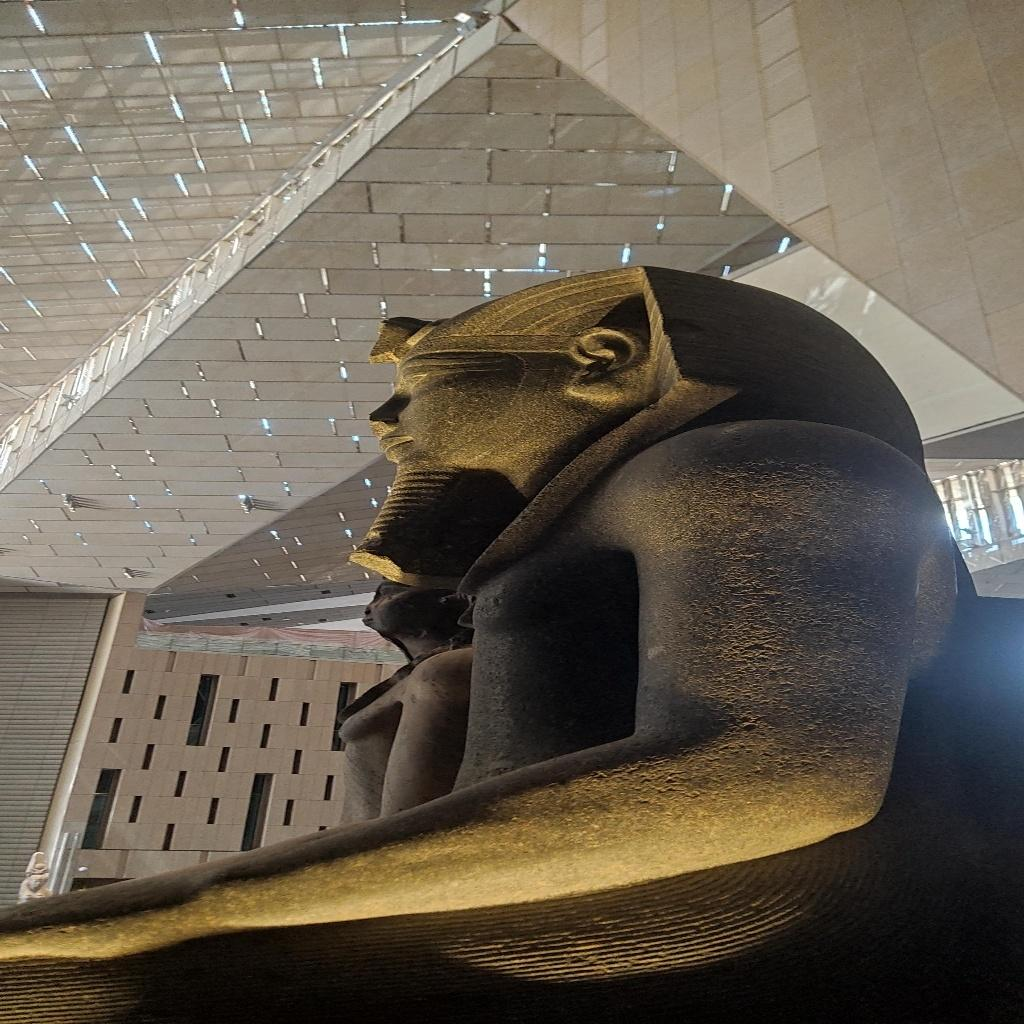Seated Statue of Amenhotep III: (9, 261, 981, 994)
